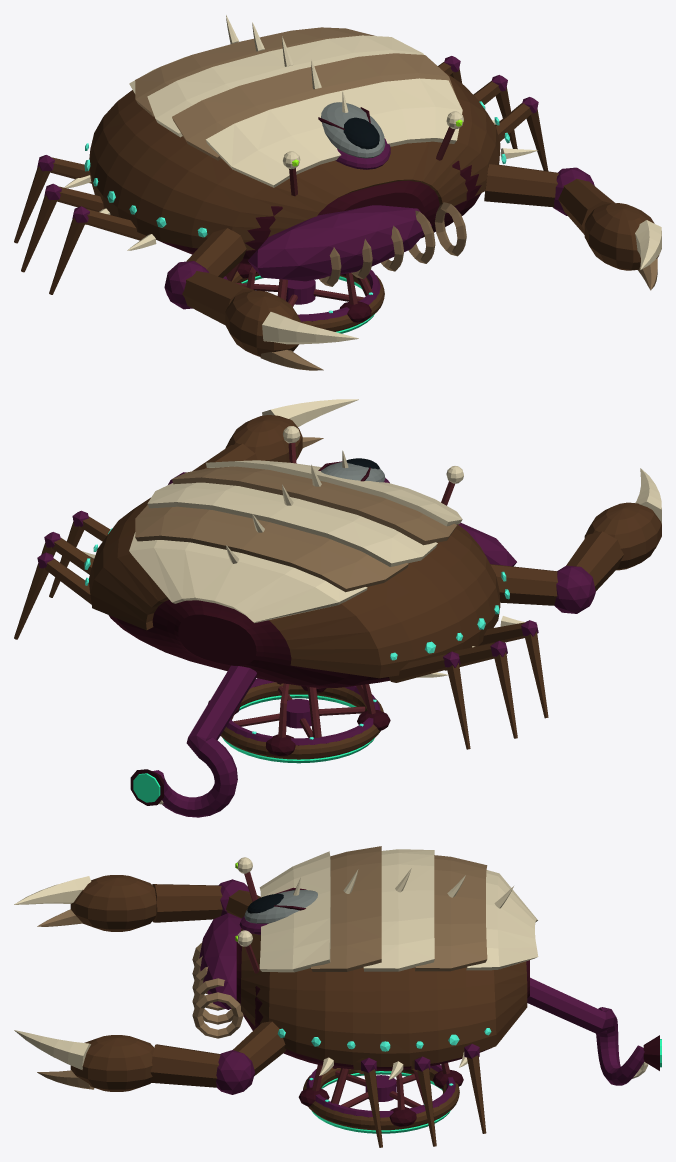
Rendered from tug.obj.
3 views of the same model, one above another, from view 1: azimuth 30°, elevation 25°; view 2: azimuth 150°, elevation 25°; view 3: azimuth 270°, elevation 25° (orthographic). The views are drawn at different scales.
Visible parts, largest first — view 1: tug; view 2: tug; view 3: tug.
Boxes of the visible parts, box(x1,y1,x2,y2) form: tug: box(14, 15, 661, 370); tug: box(14, 399, 661, 817); tug: box(14, 846, 661, 1147).
Size of the model in its own units: 65 by 32.07 by 80.
Materials: 1 (1 with a texture image).
